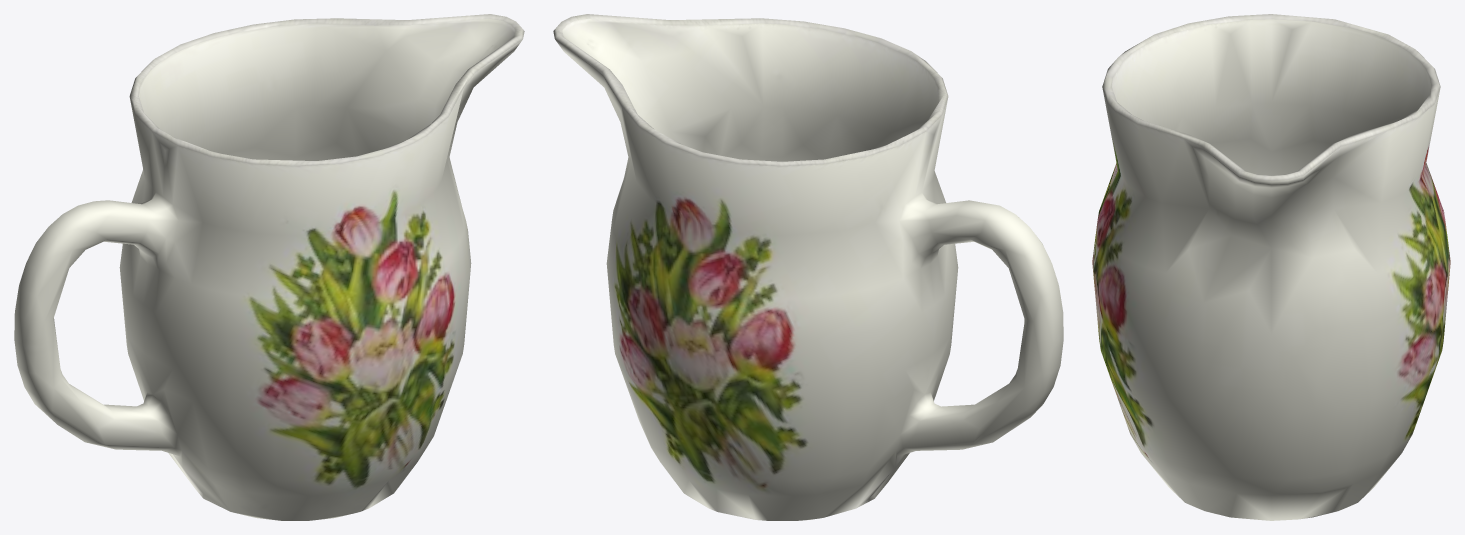
The model's file is jug_01.glb.
The picture shows the model from 3 angles, left to right: view 1: azimuth 30°, elevation 25°; view 2: azimuth 150°, elevation 25°; view 3: azimuth 270°, elevation 25°; orthographic projection. The views are drawn at different scales.
Visible parts, largest first — view 1: jug_01; view 2: jug_01; view 3: jug_01.
Boxes of the visible parts, left/top/right/bottom form: jug_01: left=14, top=14, right=524, bottom=520; jug_01: left=553, top=14, right=1063, bottom=520; jug_01: left=1092, top=14, right=1450, bottom=520.
Bounding box in the file's own units: 0.275 × 0.2113 × 0.1675.
Materials: 1 (1 with a texture image).
